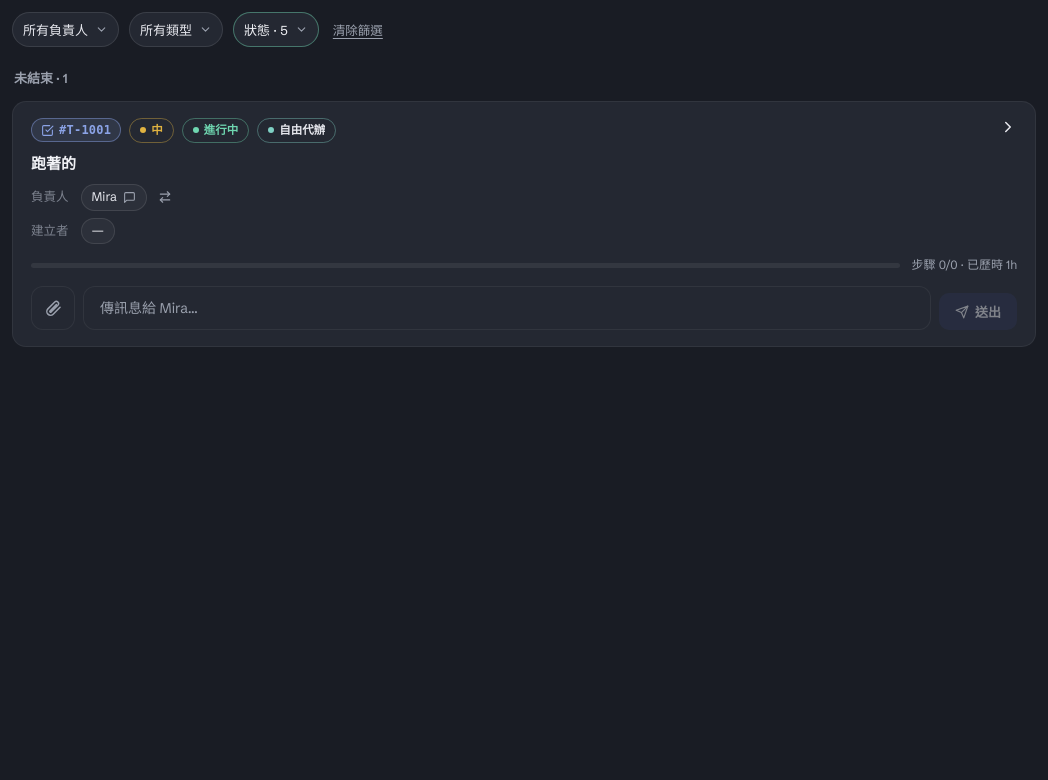
Test: TasksPage filter enhancements (T-be18) › unions statuses: ticking 已完成 alongside the live defaults shows BOTH live and done tasks
This screenshot has width=1048, height=780.
Expected: the heading "跑著的" is shown, [31,153,76,174]
Expected: the text "收工的" is not shown
What coordinates should you click on to do the following:
click the button "狀態 · 5"
I would click on:
 (276, 30)
Its box is [233,12,319,47].
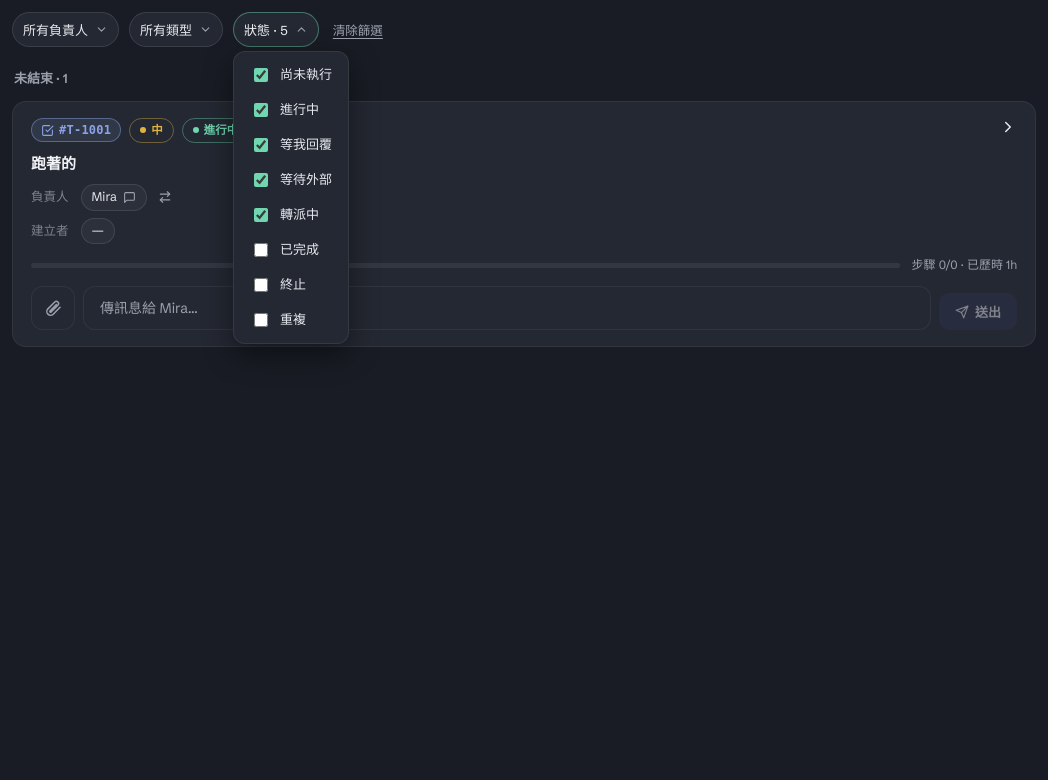
What coordinates should you click on to do the following:
click the checkbox labelled "已完成"
I would click on:
 (261, 250)
Its box is [254,243,268,257].
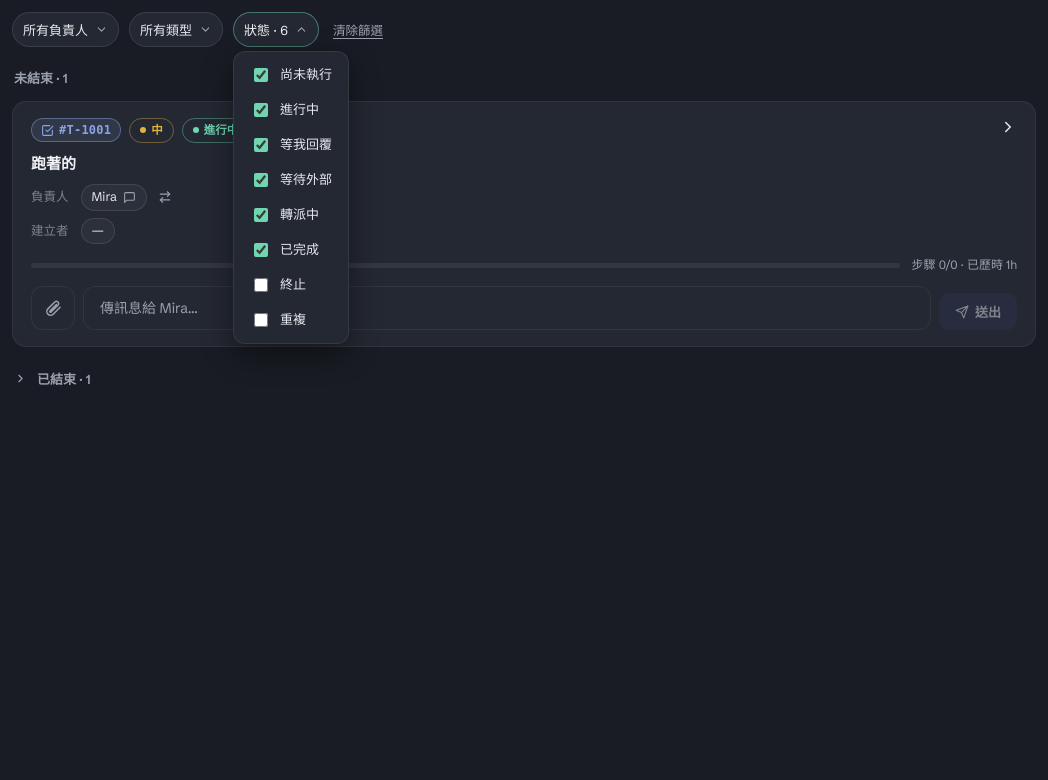
What coordinates should you click on to do the following:
click the button with test id "closed-toggle"
I would click on:
 (64, 379)
Its box is [12,369,1036,400].
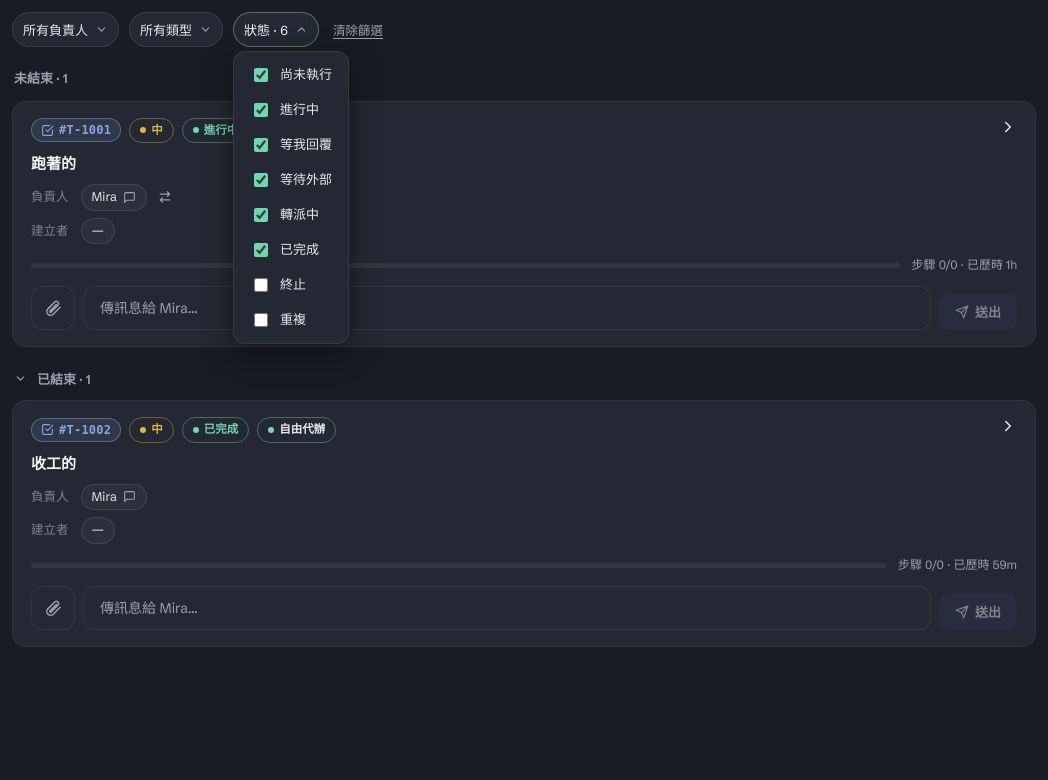
Expected: the heading "跑著的" is shown, [31,153,76,174]
Expected: the heading "收工的" is shown, [31,452,76,474]
